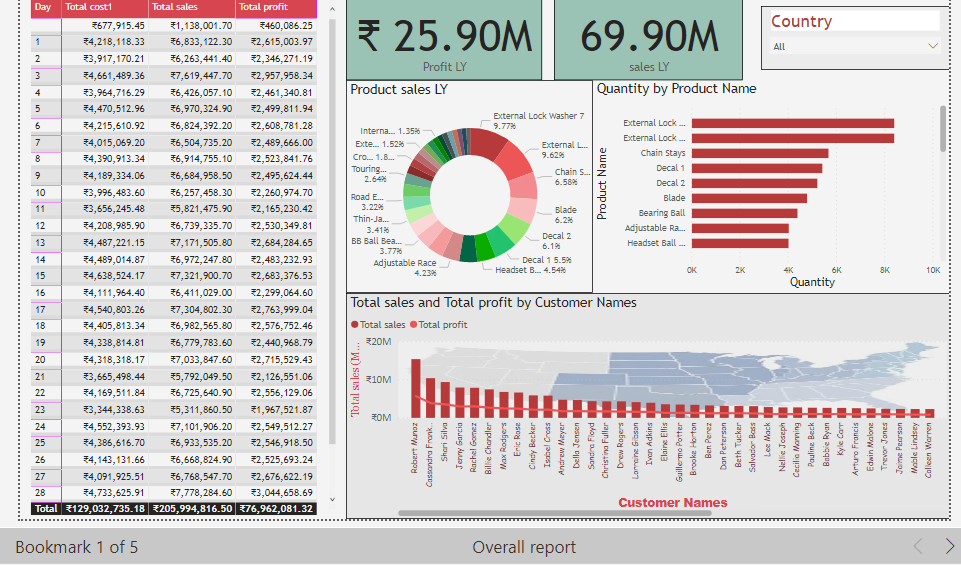

The page's visual inventory and layout, read from the dashboard file:
{"tool":"powerbi","page":{"name":"Main Dashboard","canvas":[1280,720],"ordinal":0},"visuals":[{"type":"pivotTable","fields":{"Rows":["Date data.Date.Variation.Date Hierarchy.Year","Date data.Date.Variation.Date Hierarchy.Quarter","Date data.Date.Variation.Date Hierarchy.Month","Date data.Date.Variation.Date Hierarchy.Day","Product Details.Product Name"],"Values":["Imp measures.Total cost1","Imp measures.Total sales","Imp measures.Total profit"]},"box":[9.6,0,429.5,720],"z":0},{"type":"lineStackedColumnComboChart","fields":{"Category":["Customer Details.Customer Names"],"Y":["Imp measures.Total sales"],"Y2":["Imp measures.Total profit"]},"box":[448.8,408.9,831.5,311.1],"z":1000},{"type":"donutChart","title":"Product sales LY","fields":{"Category":["Product Details.Product Name"],"Y":["Time intelligence (2).sales LY"]},"box":[448.8,115.6,340,293.2],"z":2000},{"type":"barChart","fields":{"Category":["Product Details.Product Name"],"Y":["Sales Details.Quantity"]},"box":[788.8,115.6,491.5,293.2],"z":3000},{"type":"card","fields":{"Values":["Time intelligence (2).Profit LY"]},"box":[448.8,0,269.8,115.6],"z":4000},{"type":"card","fields":{"Values":["Time intelligence (2).sales LY"]},"box":[735.1,0,260.2,115.6],"z":5000},{"type":"slicer","fields":{"Values":["Region.Country"]},"box":[1020.1,13.8,260.2,88.1],"z":6000}]}

Visuals, with their boxes on the page's 1280x720 design canvas (x1, y1, x2, y2). These are canvas units, not pixel positions in the 961x565 screenshot, which may show the page scaled, cropped or inside an application window:
pivotTable - Date data.Date.Variation.Date Hierarchy.Year x Date data.Date.Variation.Date Hierarchy.Quarter: region(10, 0, 439, 720)
lineStackedColumnComboChart - Customer Details.Customer Names x Imp measures.Total sales: region(449, 409, 1280, 720)
"Product sales LY" donutChart: region(449, 116, 789, 409)
barChart - Product Details.Product Name x Sales Details.Quantity: region(789, 116, 1280, 409)
card - Time intelligence (2).Profit LY: region(449, 0, 719, 116)
card - Time intelligence (2).sales LY: region(735, 0, 995, 116)
slicer - Region.Country: region(1020, 14, 1280, 102)
